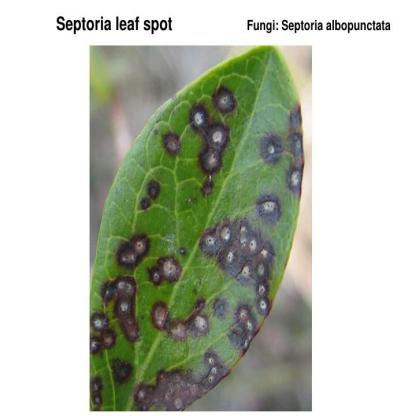tomato septoria leaf spot: (91, 49, 306, 404)
